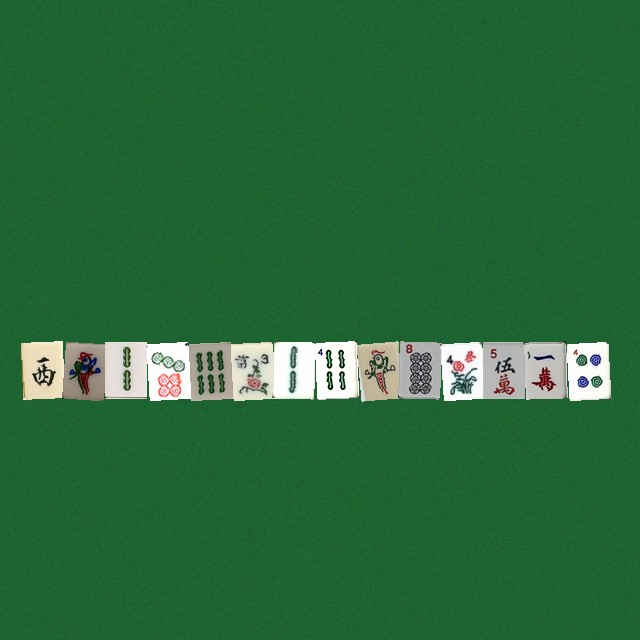tile: (20, 341, 62, 398), (62, 341, 104, 398), (104, 341, 146, 398), (146, 341, 188, 398), (188, 341, 230, 398), (230, 341, 272, 398), (272, 341, 314, 398), (314, 341, 356, 398), (356, 341, 398, 398), (398, 341, 440, 398), (440, 341, 482, 398), (482, 341, 524, 398), (524, 341, 566, 398), (566, 341, 608, 398)
